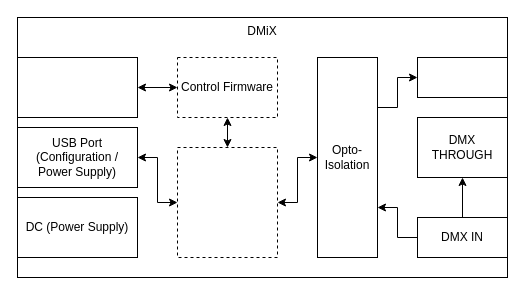
Image size: 525x295. Some labels were removed from this diagram. The shapes that lost their labels are listed below. From the top down, each one's centre as x and y in pixels, then its label:
the point at 77,87: GPIOs (Footcontrol / Output)
the point at 462,77: DMX OUT
the point at 227,202: Light Scene Preset Storage
